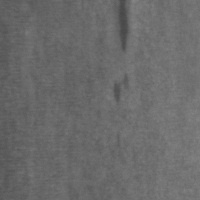inclusion: (115, 1, 136, 54), (110, 70, 134, 108)
